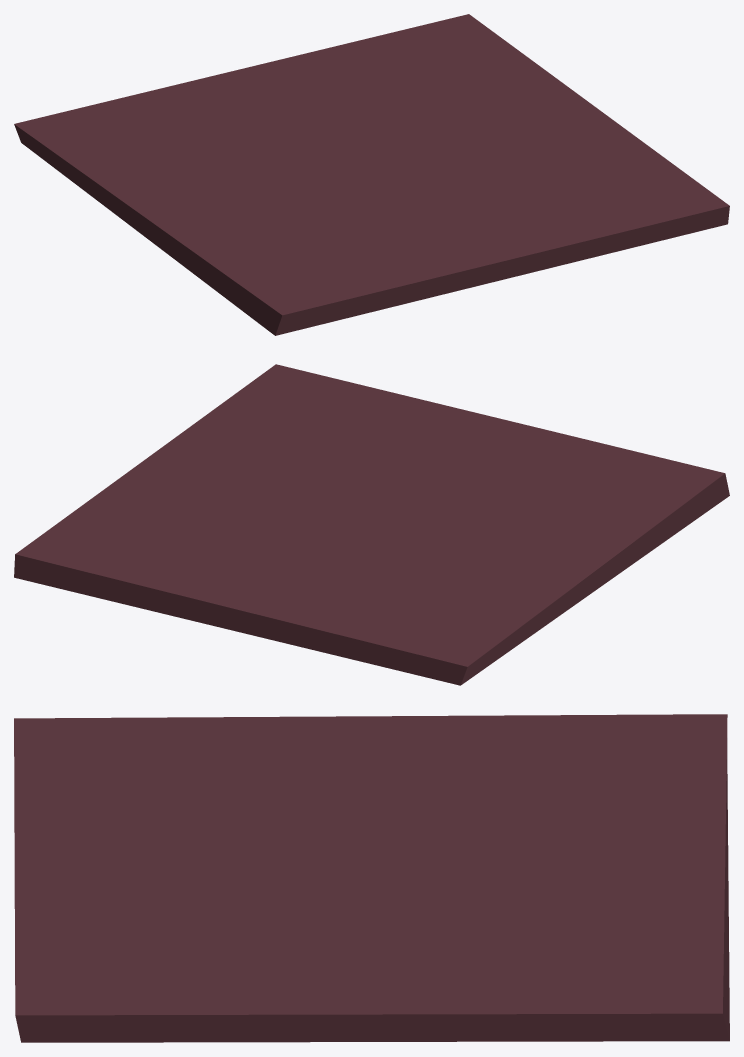
Rendered from furniture-napkin-square.glb.
3 views of the same model, one above another, from view 1: azimuth 30°, elevation 25°; view 2: azimuth 150°, elevation 25°; view 3: azimuth 270°, elevation 25° (orthographic). The views are drawn at different scales.
Visible parts, largest first — view 1: napkin-square; view 2: napkin-square; view 3: napkin-square.
Boxes of the visible parts, x1,y1,x2,y2 form: napkin-square: (14, 14, 729, 335); napkin-square: (14, 364, 729, 685); napkin-square: (14, 714, 729, 1042).
Size of the model in its own units: 0.2195 by 0.00981 by 0.2208.
